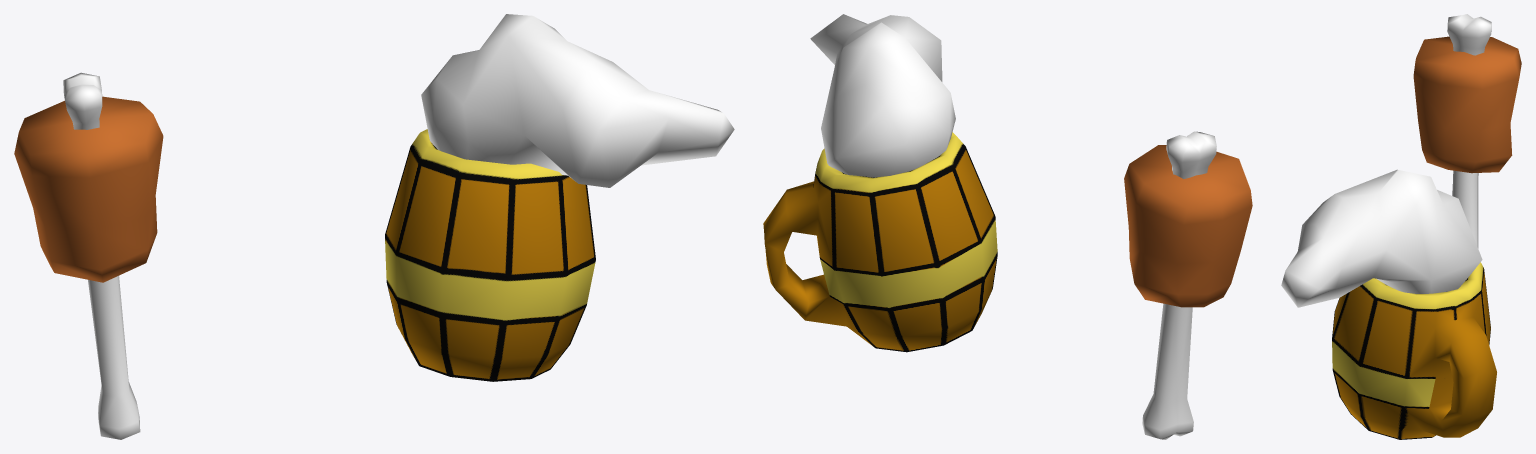
The model's file is AF_M_Prop_29.FBX.
3 views of the same model, side by side, from view 1: azimuth 30°, elevation 25°; view 2: azimuth 150°, elevation 25°; view 3: azimuth 270°, elevation 25° (orthographic). The views are drawn at different scales.
Parts seen in each view (by area): view 1: AF_M_Prop_29; view 2: AF_M_Prop_29; view 3: AF_M_Prop_29.
Boxes of the visible parts, bbox=[...] form: AF_M_Prop_29: bbox=[14, 14, 734, 439]; AF_M_Prop_29: bbox=[763, 14, 1252, 439]; AF_M_Prop_29: bbox=[1281, 14, 1521, 439].
Size of the model in its own units: 582 by 332 by 262.
Materials: 1 (1 with a texture image).
